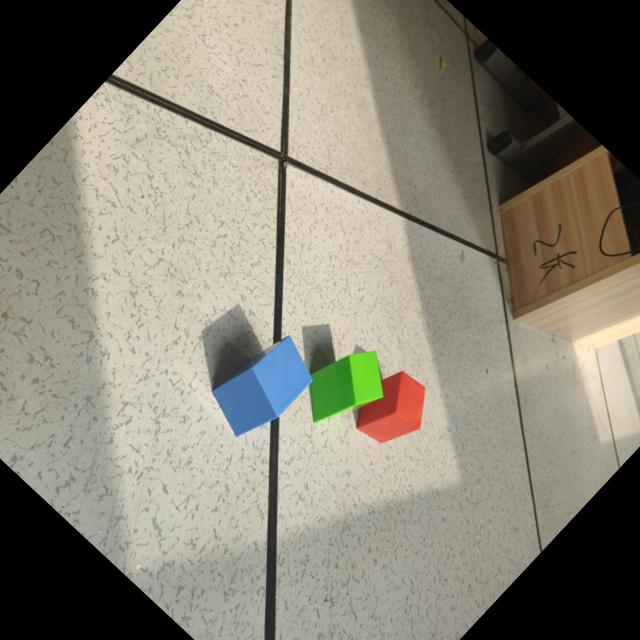blue: (210, 338, 310, 438)
green: (306, 349, 385, 424)
red: (353, 373, 425, 445)
